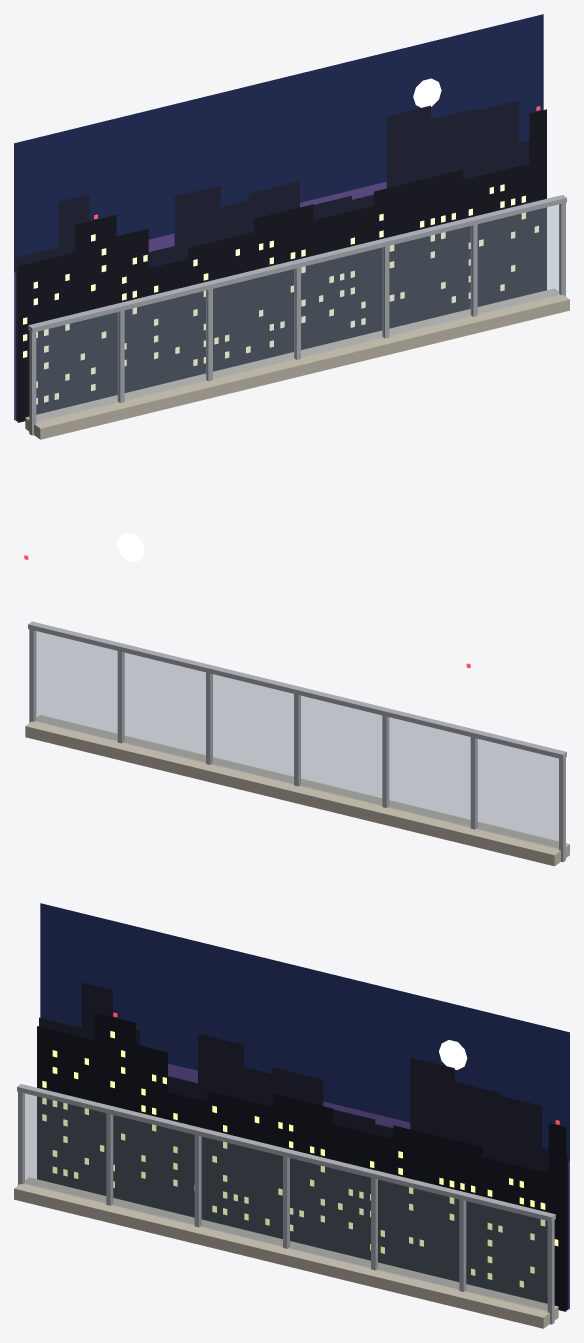
Rendered from terrace_balustrade.glb.
3 views of the same model, one above another, from view 1: azimuth 30°, elevation 25°; view 2: azimuth 150°, elevation 25°; view 3: azimuth 330°, elevation 25° (orthographic).
Parts seen in each view (by area): view 1: terrace_balustrade; view 2: terrace_balustrade; view 3: terrace_balustrade.
Part boxes in pixels (x1,y1,x2,y2): terrace_balustrade: [14, 14, 569, 439]; terrace_balustrade: [24, 532, 569, 866]; terrace_balustrade: [14, 903, 569, 1328].
Bounding box in the file's own units: 6.06 × 3 × 0.52.
